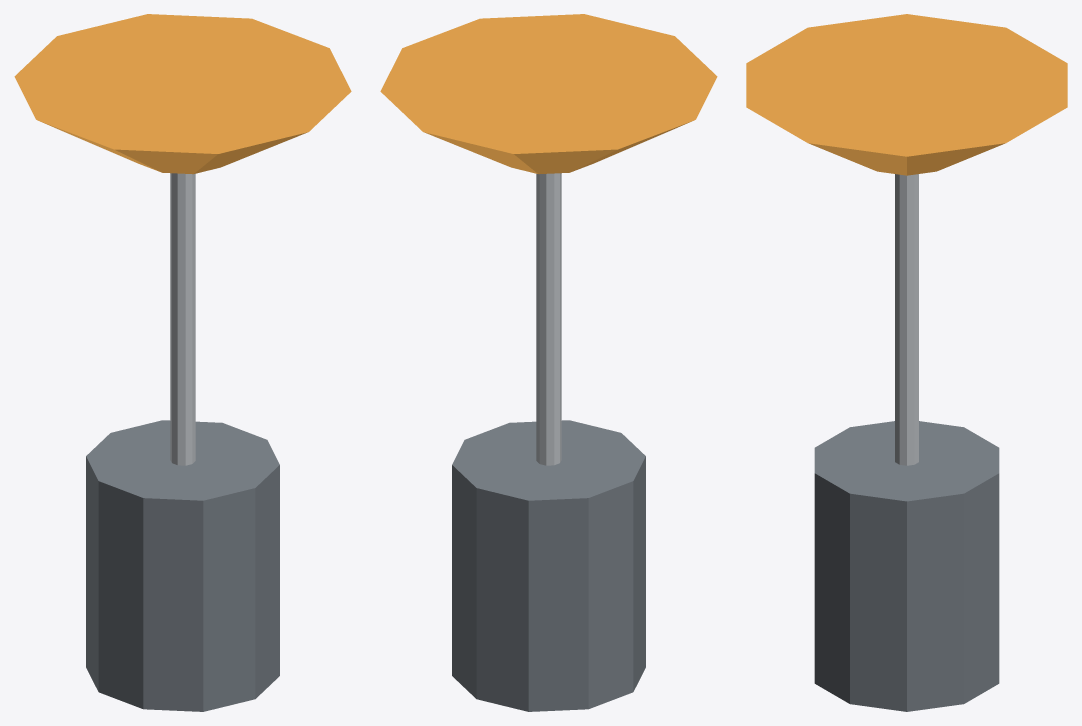
Rendered from mech-hangar-and-battle-frames-oil-drain-8946bbc0__26974.glb.
The picture shows the model from 3 angles, left to right: view 1: azimuth 30°, elevation 25°; view 2: azimuth 150°, elevation 25°; view 3: azimuth 270°, elevation 25°; orthographic projection.
Parts seen in each view (by area): view 1: oil-drain; view 2: oil-drain; view 3: oil-drain.
Part boxes in pixels (x1,y1,x2,y2): oil-drain: [14, 14, 351, 711]; oil-drain: [380, 14, 717, 711]; oil-drain: [746, 14, 1067, 711].
Bounding box in the file's own units: 0.8 × 1.53 × 0.7608.
